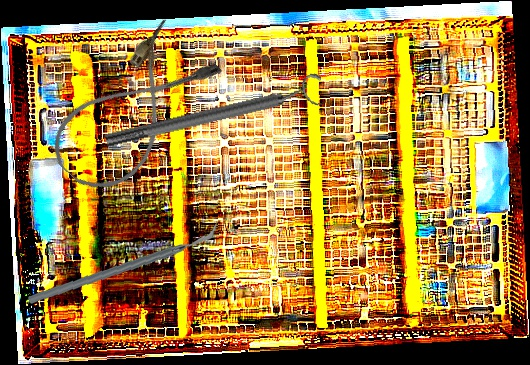Cannula: (39, 14, 227, 207)
Chopper: (27, 210, 221, 317)
Fixation Ring: (101, 71, 328, 157)
